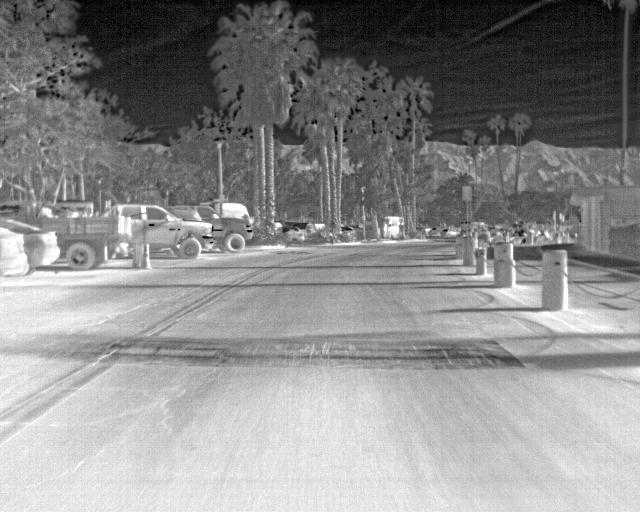car: (142, 202, 212, 260), (200, 206, 253, 252), (20, 222, 59, 270), (0, 224, 30, 278), (290, 222, 313, 238), (277, 224, 299, 238), (340, 224, 358, 239), (308, 222, 325, 235)
